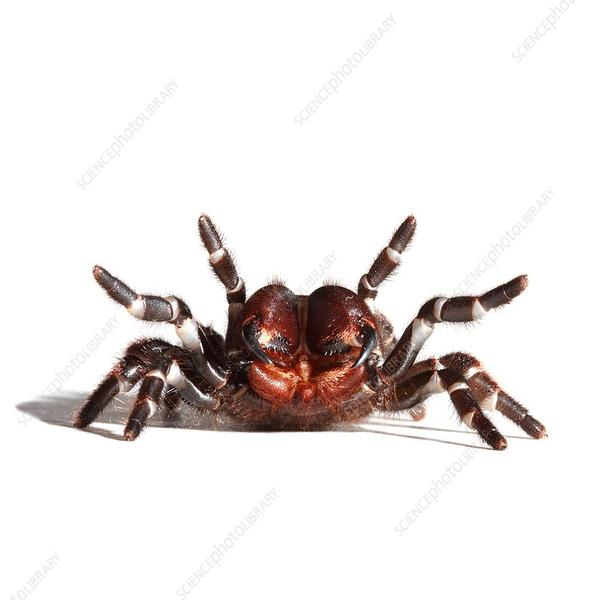Funnel Web Spider: (82, 217, 546, 445)
